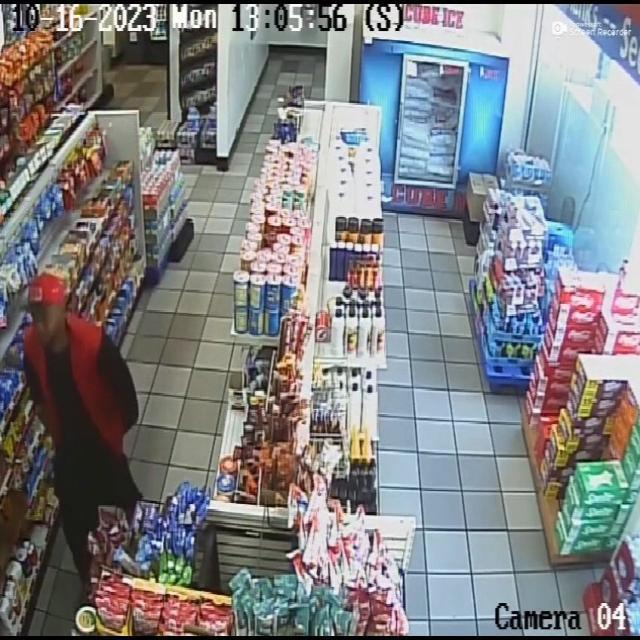Normal: (25, 261, 141, 543)
